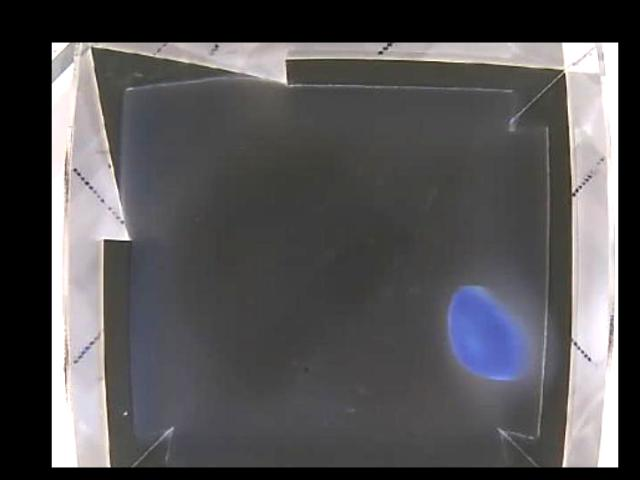Potato: (447, 285, 529, 381)
